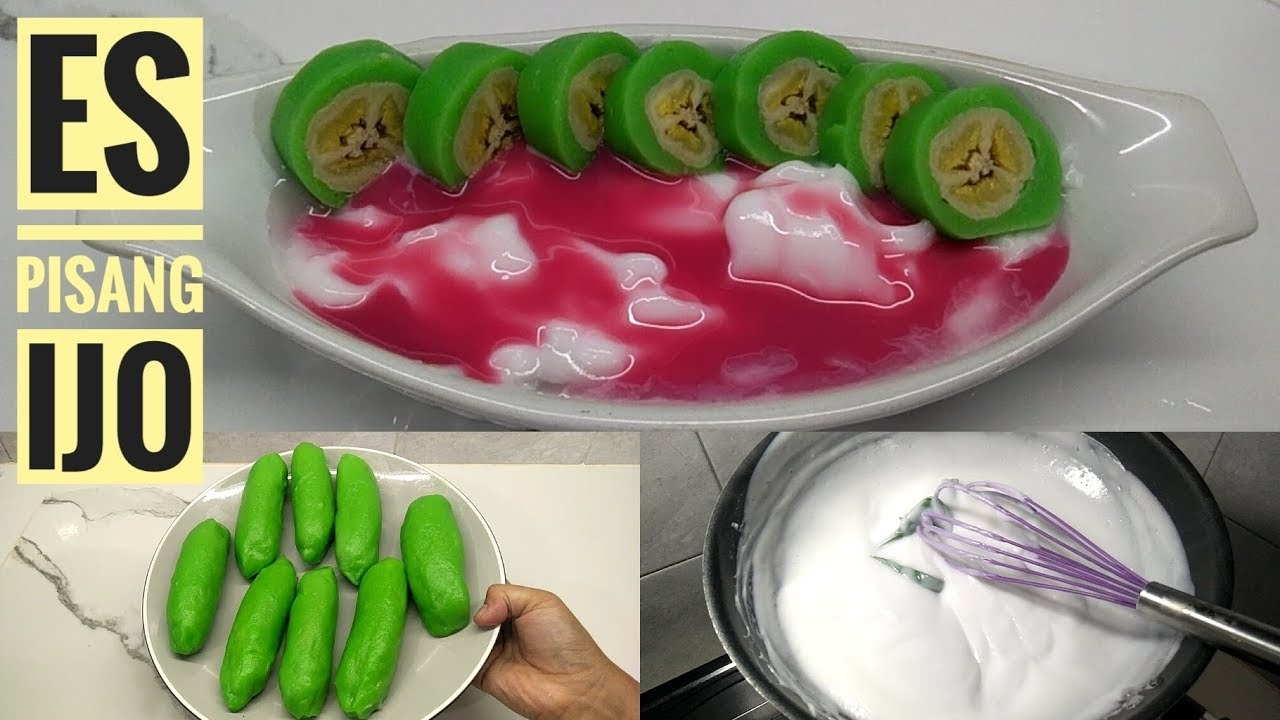es_pisang_ijo: (272, 33, 1074, 407)
